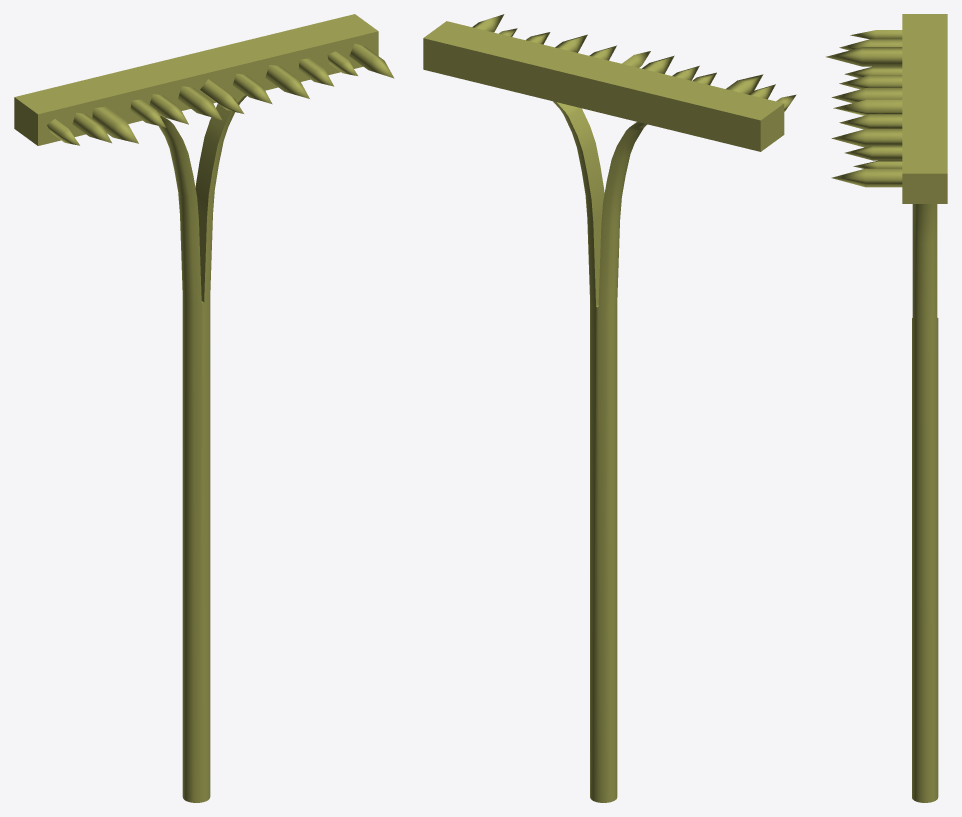
File: Peasant_Rake.fbx
The picture shows the model from 3 angles, left to right: view 1: azimuth 30°, elevation 25°; view 2: azimuth 150°, elevation 25°; view 3: azimuth 270°, elevation 25°; orthographic projection. The views are drawn at different scales.
Parts seen in each view (by area): view 1: rake; view 2: rake; view 3: rake.
Boxes of the visible parts, bbox=[...] form: rake: bbox=[14, 14, 394, 802]; rake: bbox=[423, 14, 796, 802]; rake: bbox=[826, 14, 947, 802].
Bounding box in the file's own units: 98.68 × 203 × 31.99.
